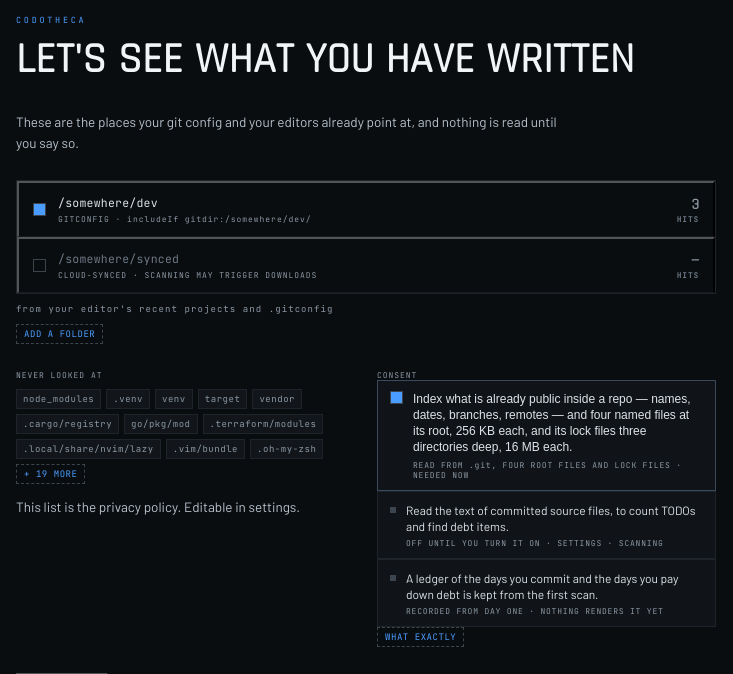
it: the exclusion list is drawn in full behind one chip, in the core list order
The width and height of the screenshot is (733, 674).
Click the button "+ 19 MORE".
click(51, 474)  # box x1=16 y1=464 x2=86 y2=484
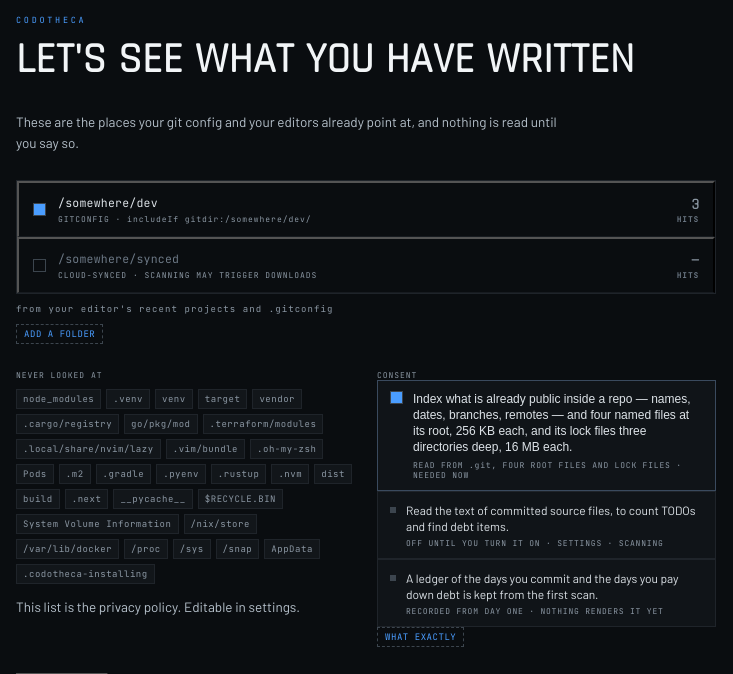
expect the text "Pods" is shown: met, box x1=16 y1=464 x2=54 y2=484
expect the text ".m2" is shown: met, box x1=59 y1=464 x2=91 y2=484
expect the text ".gradle" is shown: met, box x1=96 y1=464 x2=151 y2=484
